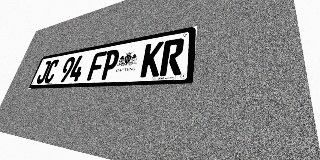4: (68, 54, 87, 82)
9: (58, 56, 76, 82)
C: (43, 59, 60, 83)
F: (86, 51, 107, 81)
J: (35, 60, 52, 84)
K: (140, 41, 164, 77)
P: (99, 49, 121, 80)
R: (159, 38, 185, 76)
